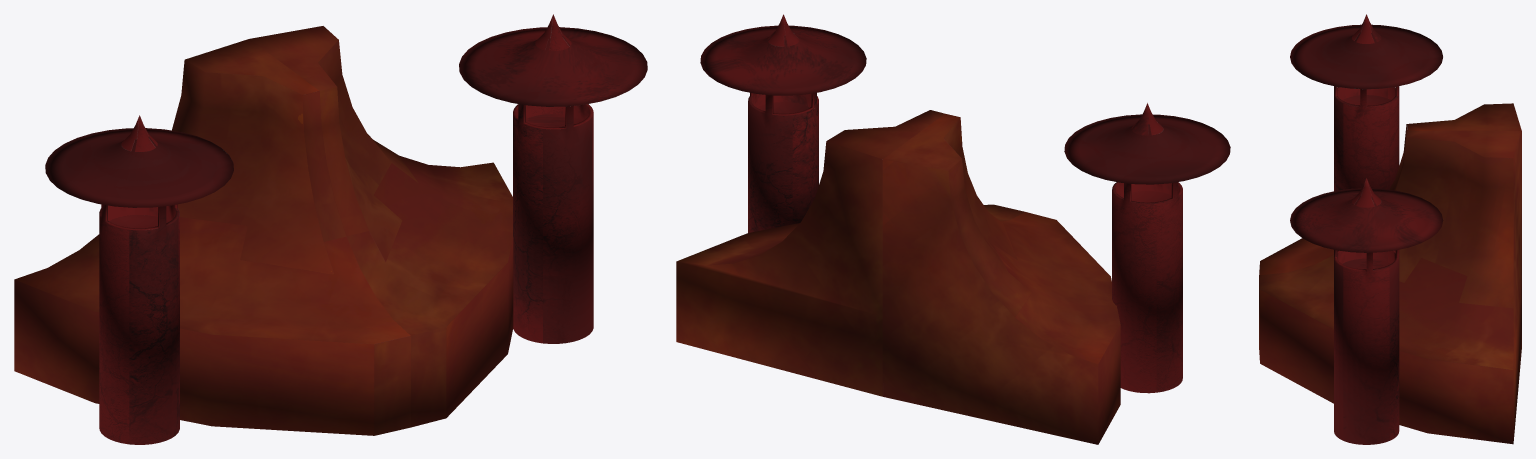
The model's file is castelo_fogo.fbx.
The picture shows the model from 3 angles, left to right: view 1: azimuth 30°, elevation 25°; view 2: azimuth 150°, elevation 25°; view 3: azimuth 270°, elevation 25°; orthographic projection. The views are drawn at different scales.
Parts seen in each view (by area): view 1: Cube, Cylinder; view 2: Cube, Cylinder; view 3: Cube, Cylinder.
Boxes of the visible parts, left/top/right/bottom form: Cube: left=14, top=26, right=513, bottom=435; Cylinder: left=45, top=14, right=647, bottom=444; Cube: left=676, top=110, right=1120, bottom=444; Cylinder: left=700, top=14, right=1230, bottom=393; Cube: left=1259, top=103, right=1521, bottom=444; Cylinder: left=1290, top=14, right=1443, bottom=444.
Bounding box in the file's own units: 5.78 × 3 × 2.81.
